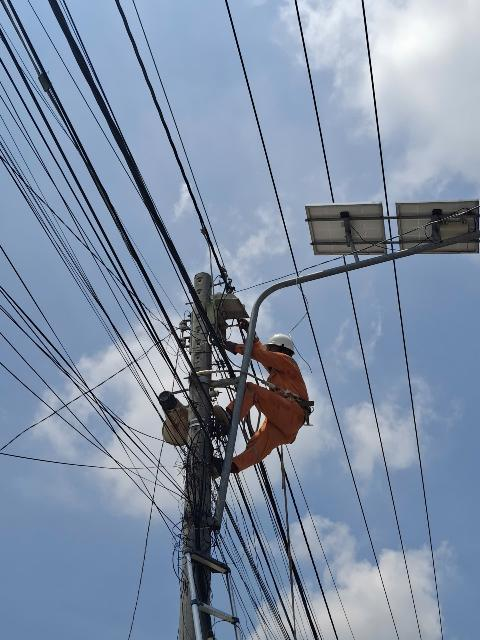gloves: (232, 311, 286, 351), (211, 338, 252, 364)
harness: (292, 396, 346, 425)
helmet: (262, 333, 311, 363)
shoes: (207, 451, 263, 481), (207, 404, 247, 438)
